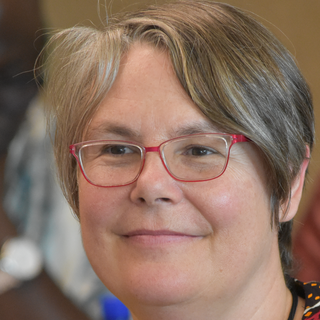eye: (176, 139, 223, 166), (94, 138, 140, 164)
